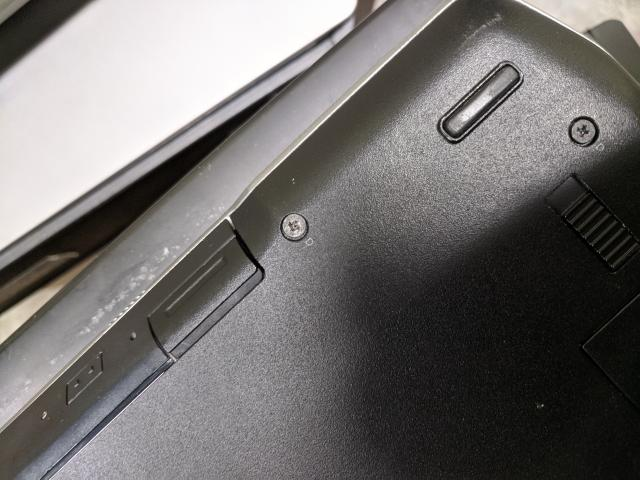CRS: (567, 113, 597, 148), (277, 212, 311, 241)
